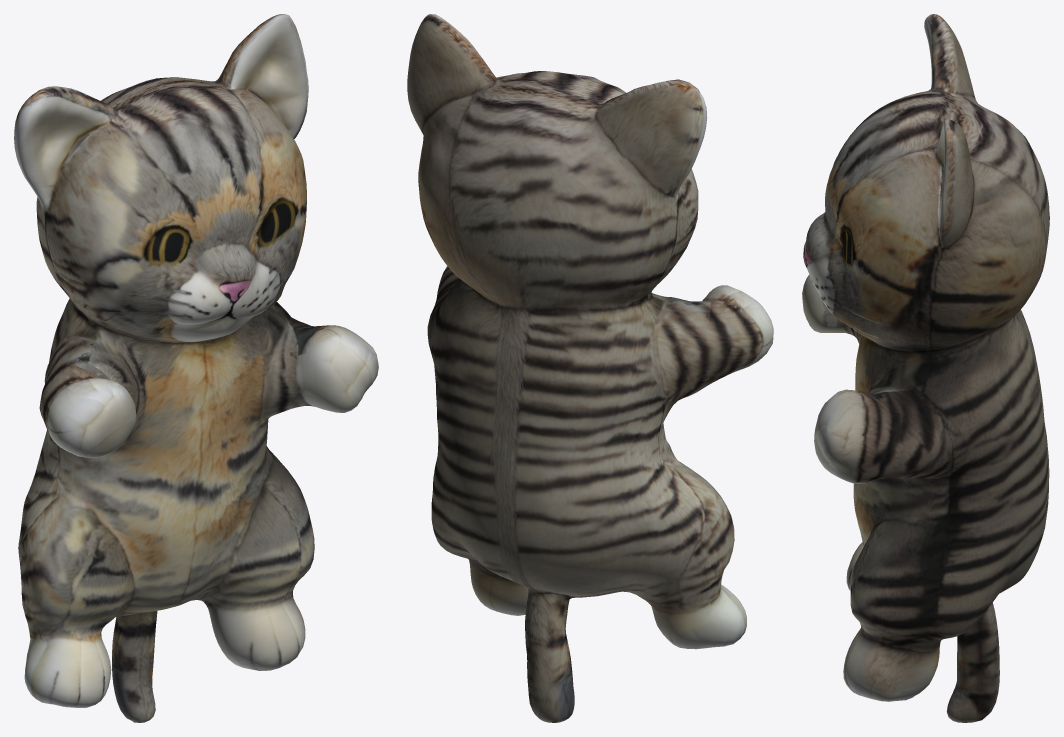
The model's file is Cuddly_Margo_0709053003_texture.glb.
3 views of the same model, side by side, from view 1: azimuth 30°, elevation 25°; view 2: azimuth 150°, elevation 25°; view 3: azimuth 270°, elevation 25° (orthographic). The views are drawn at different scales.
Size of the model in its own units: 1.01 by 2 by 0.6769.
1 material, 1 textured.
